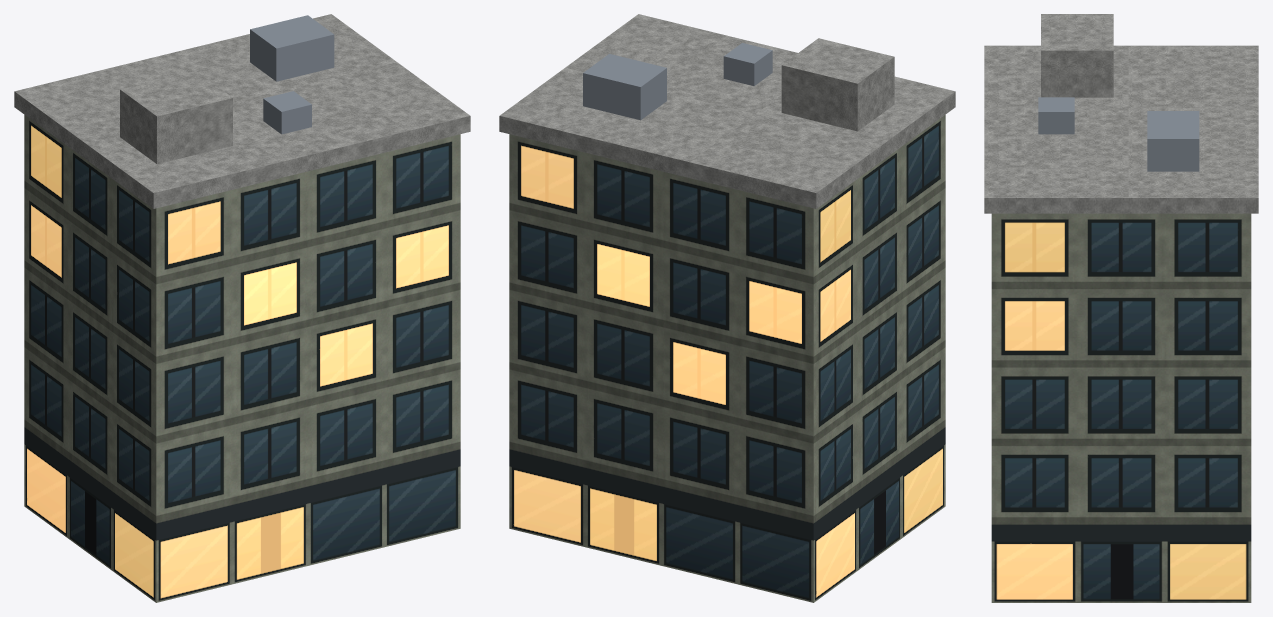
The model's file is medio.glb.
The picture shows the model from 3 angles, left to right: view 1: azimuth 30°, elevation 25°; view 2: azimuth 150°, elevation 25°; view 3: azimuth 270°, elevation 25°; orthographic projection.
Visible parts, largest first — view 1: frente, lados, cobertura, equipamentos; view 2: frente, lados, cobertura, equipamentos; view 3: lados, cobertura, equipamentos.
Part boxes in pixels (x1,y1,x2,y2): frente: (156, 134, 460, 602); lados: (24, 115, 156, 602); cobertura: (14, 14, 470, 208); equipamentos: (250, 15, 334, 134); frente: (509, 134, 813, 602); lados: (813, 115, 945, 602); cobertura: (499, 14, 955, 208); equipamentos: (583, 43, 772, 120); lados: (991, 213, 1251, 602); cobertura: (984, 14, 1258, 213); equipamentos: (1038, 97, 1199, 171).
Size of the model in its own units: 5 by 6.96 by 3.8.
4 materials, 3 textured.
